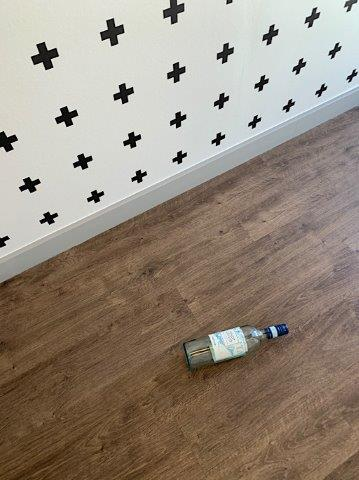botolkaca: (183, 323, 290, 367)
